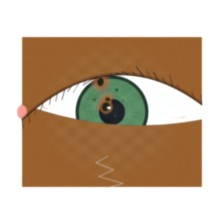foreign_body_visible: (79, 65, 122, 99)
